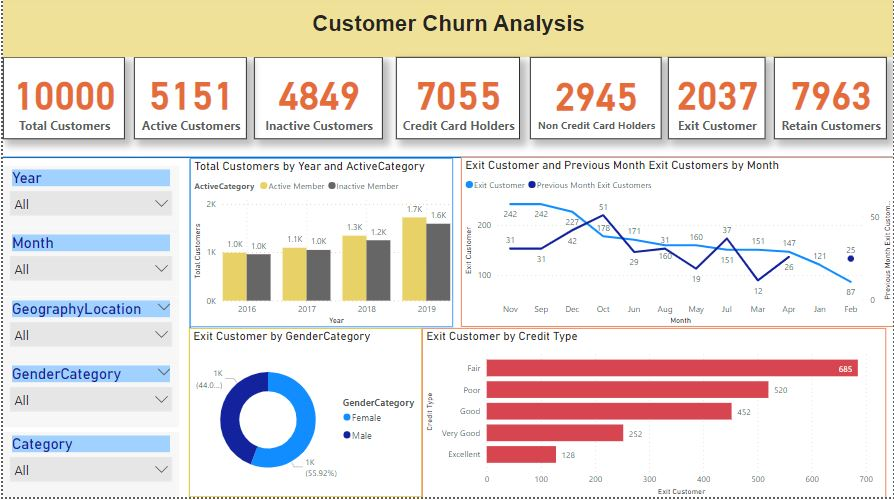

Layout of this report page (visuals, bound fields, positions):
{"tool":"powerbi","page":{"name":"Page 1","canvas":[1280,720],"ordinal":0},"visuals":[{"type":"card","fields":{"Values":["Calculations.Total Customers"]},"box":[0,88.1,174.8,118.5],"z":0},{"type":"card","fields":{"Values":["Calculations.Inactive Customers"]},"box":[361.2,88.1,184.9,118.5],"z":1000},{"type":"card","fields":{"Values":["Calculations.Active Customers"]},"box":[187.8,88.1,161.8,118.5],"z":2000},{"type":"textbox","box":[0,0,1280.5,87.7],"z":3000},{"type":"card","fields":{"Values":["Calculations.Credit Card Holders"]},"box":[564.9,88.1,177.7,118.5],"z":4000},{"type":"card","fields":{"Values":["Calculations.Non Credit Card Holders"]},"box":[757,88.1,189.3,118.5],"z":5000},{"type":"card","fields":{"Values":["Calculations.Exit Customer"]},"box":[956.4,88.1,140.1,118.5],"z":6000},{"type":"card","fields":{"Values":["Calculations.Retain Customers"]},"box":[1108.1,88.1,161.8,118.5],"z":7000},{"type":"shape","box":[0,220.6,1279.4,23.5],"z":8000},{"type":"shape","box":[225,233.8,86.8,486.8],"z":9000},{"type":"slicer","fields":{"Values":["DateMaster.Year"]},"box":[0,244.1,252.9,94.1],"z":10000},{"type":"slicer","fields":{"Values":["DateMaster.Month"]},"box":[0,338.2,252.9,94.1],"z":11000},{"type":"slicer","fields":{"Values":["Geography.GeographyLocation"]},"box":[0,432.4,252.9,94.1],"z":12000},{"type":"slicer","fields":{"Values":["Gender.GenderCategory"]},"box":[0,526.5,252.9,94.1],"z":13000},{"type":"slicer","fields":{"Values":["CreditCard.Category"]},"box":[0,626.5,252.9,94.1],"z":14000},{"type":"clusteredColumnChart","fields":{"Category":["DateMaster.Year","DateMaster.Month"],"Y":["Calculations.Total Customers"],"Series":["ActiveCustomer.ActiveCategory"]},"box":[268.7,232.8,378,242.9],"z":15000},{"type":"lineChart","fields":{"Category":["DateMaster.Month"],"Y":["Calculations.Exit Customer"],"Y2":["Calculations.Previous Month Exit Customers"]},"box":[658.2,231.4,622.3,244.3],"z":16000},{"type":"donutChart","fields":{"Y":["Calculations.Exit Customer"],"Category":["Gender.GenderCategory"]},"box":[267.3,477.1,334.9,242.9],"z":17000},{"type":"clusteredBarChart","fields":{"Category":["Bank_Churn.Credit Type"],"Y":["Calculations.Exit Customer"]},"box":[602.3,476.5,667.4,244.2],"z":18000}]}

Visuals, with their boxes in screenshot pixels (x1, y1, x2, y2), scaled from the page's 1280x720 canvas onto the 894x500 screenshot:
card - Calculations.Total Customers: bbox=(0, 61, 122, 143)
card - Calculations.Inactive Customers: bbox=(252, 61, 381, 143)
card - Calculations.Active Customers: bbox=(131, 61, 244, 143)
textbox: bbox=(0, 0, 893, 61)
card - Calculations.Credit Card Holders: bbox=(395, 61, 519, 143)
card - Calculations.Non Credit Card Holders: bbox=(529, 61, 661, 143)
card - Calculations.Exit Customer: bbox=(668, 61, 766, 143)
card - Calculations.Retain Customers: bbox=(774, 61, 887, 143)
shape: bbox=(0, 153, 893, 170)
shape: bbox=(157, 162, 218, 499)
slicer - DateMaster.Year: bbox=(0, 170, 177, 235)
slicer - DateMaster.Month: bbox=(0, 235, 177, 300)
slicer - Geography.GeographyLocation: bbox=(0, 300, 177, 366)
slicer - Gender.GenderCategory: bbox=(0, 366, 177, 431)
slicer - CreditCard.Category: bbox=(0, 435, 177, 499)
clusteredColumnChart - DateMaster.Year x DateMaster.Month: bbox=(188, 162, 452, 330)
lineChart - DateMaster.Month x Calculations.Exit Customer: bbox=(460, 161, 893, 330)
donutChart - Calculations.Exit Customer x Gender.GenderCategory: bbox=(187, 331, 421, 499)
clusteredBarChart - Bank_Churn.Credit Type x Calculations.Exit Customer: bbox=(421, 331, 887, 499)
